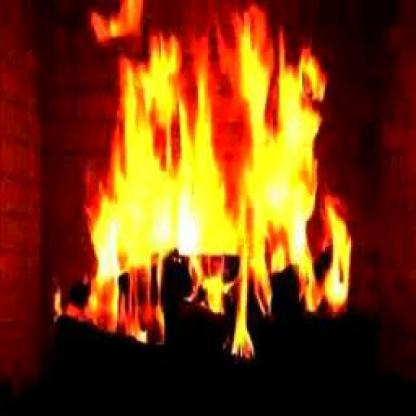fire: (45, 0, 356, 365)
